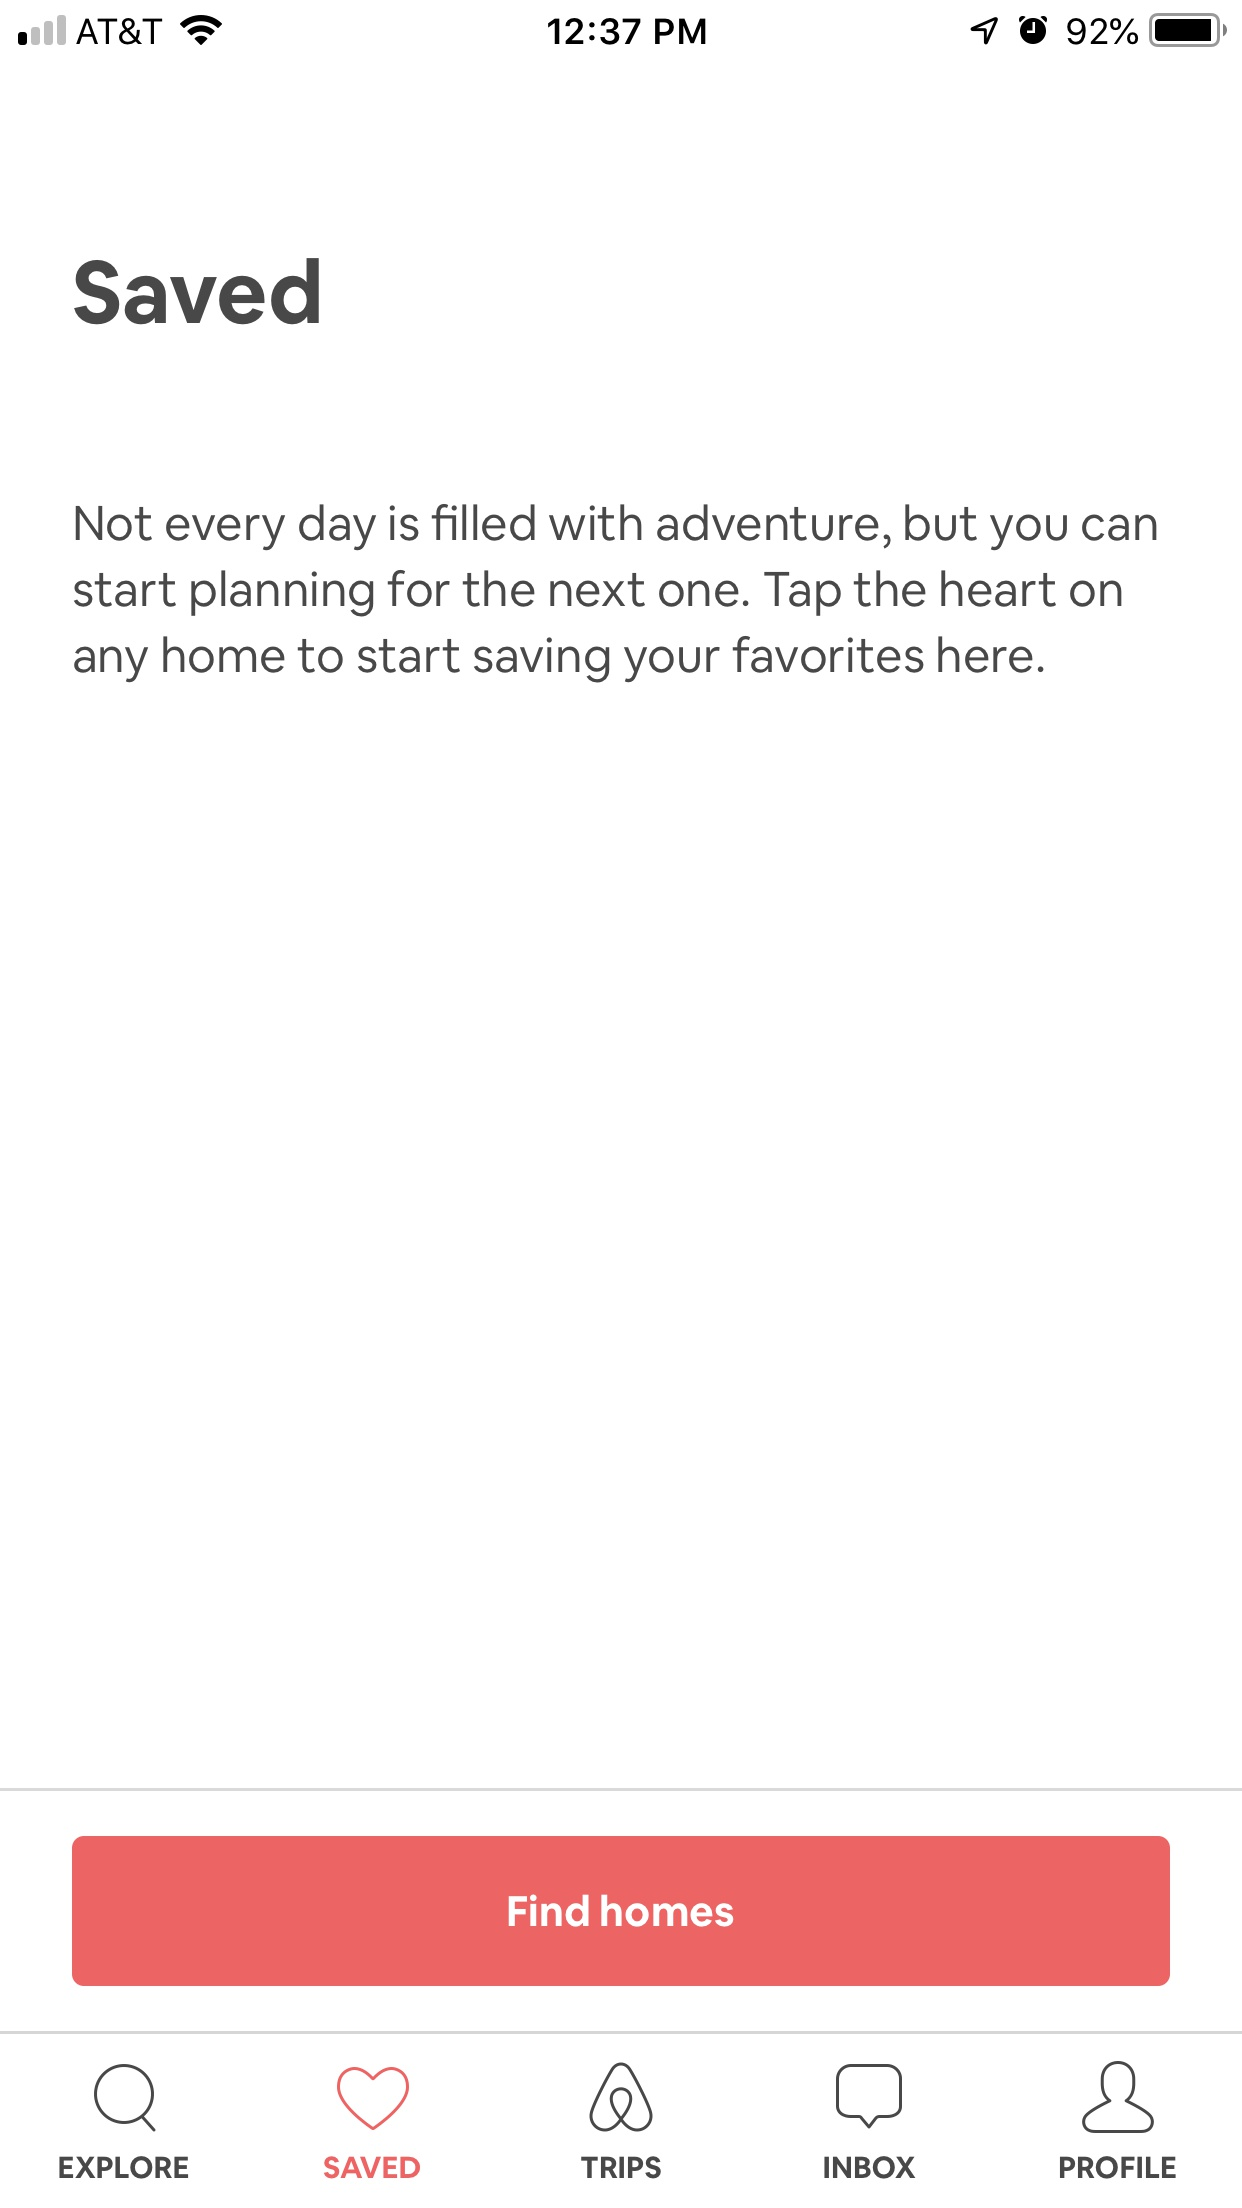Icon: (1081, 2059, 1156, 2134), (337, 2065, 411, 2131), (94, 2062, 158, 2134), (836, 2062, 902, 2129)
Image: (588, 2061, 654, 2134)
Text: (74, 503, 1159, 684), (74, 258, 320, 326), (59, 2153, 190, 2179), (1059, 2155, 1177, 2181), (325, 2155, 422, 2179), (823, 2155, 916, 2179), (581, 2155, 663, 2179)
TextButton: (71, 1835, 1171, 1987)
UpperTaskBar: (2, 2, 1242, 49)
